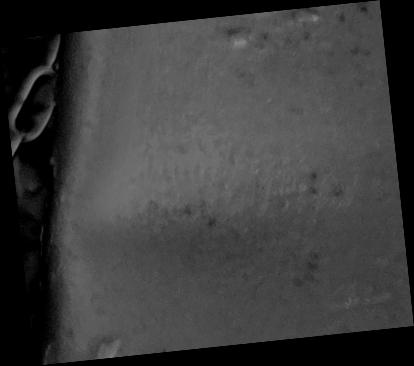dent: (1, 1, 414, 366)
